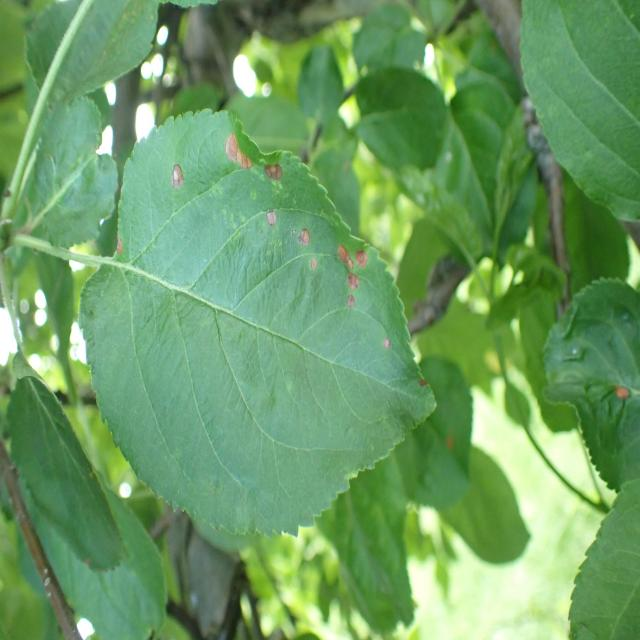frog-eye-leaf-spot: (78, 107, 437, 540)
